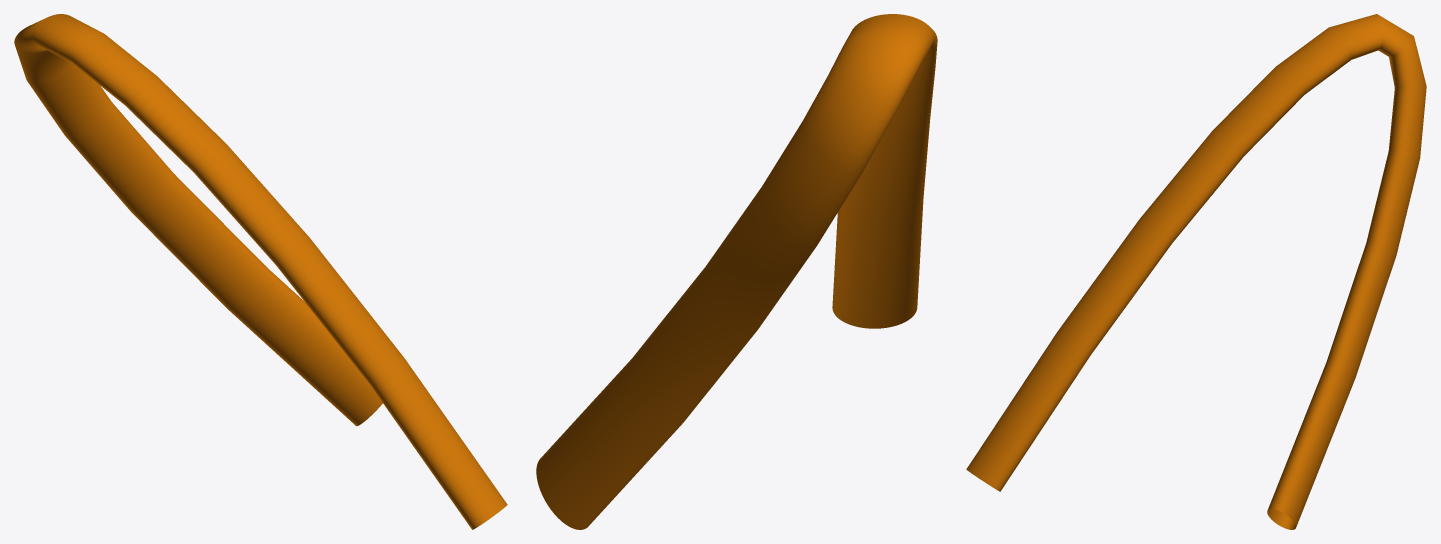
File: fil_uncutted_jaune.obj
3 views of the same model, side by side, from view 1: azimuth 30°, elevation 25°; view 2: azimuth 150°, elevation 25°; view 3: azimuth 270°, elevation 25° (orthographic). The views are drawn at different scales.
Visible parts, largest first — view 1: BezierCurve_BezierCurve.003; view 2: BezierCurve_BezierCurve.003; view 3: BezierCurve_BezierCurve.003.
Part boxes in pixels (x1,y1,x2,y2): BezierCurve_BezierCurve.003: (14, 14, 507, 529); BezierCurve_BezierCurve.003: (536, 14, 937, 529); BezierCurve_BezierCurve.003: (966, 14, 1426, 529).
Size of the model in its own units: 0.1776 by 0.2372 by 0.2488.
